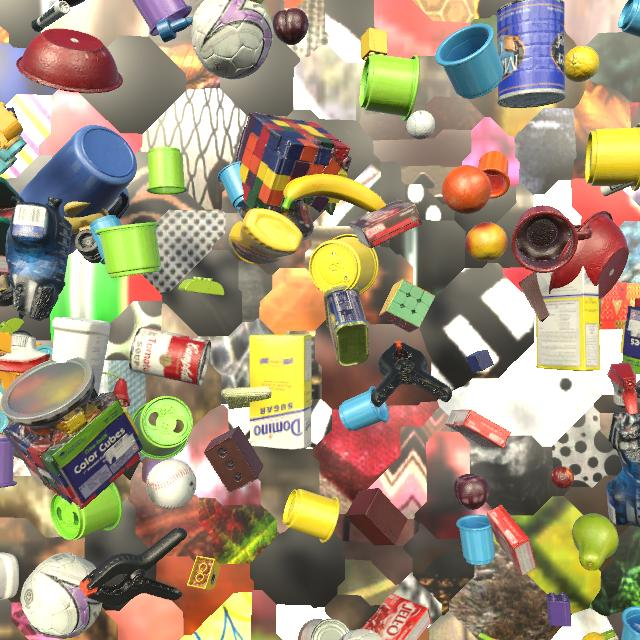ycb_002_master_chef_can: (496, 0, 566, 108)
ycb_004_sugar_box: (249, 334, 312, 450), (536, 266, 600, 371)
ycb_005_tomato_soup_can: (129, 326, 211, 386), (298, 619, 350, 640)
ycb_006_mustard_bottle: (229, 208, 303, 264)
ycb_008_pudding_box: (349, 200, 422, 249)
ycb_009_gelatin_box: (487, 505, 536, 576), (361, 593, 432, 640), (445, 409, 511, 448), (0, 256, 9, 275)
ycb_010_potted_meat_can: (324, 285, 369, 367)
ycb_011_banana: (281, 173, 386, 213), (582, 629, 615, 640), (478, 633, 498, 640)
ycb_014_lemon: (565, 46, 600, 82)
ycb_015_peach: (465, 222, 508, 261)
ycb_016_pear: (572, 513, 619, 571)
ycb_017_orange: (442, 165, 492, 215)
ycb_018_plum: (273, 8, 309, 45), (454, 474, 490, 510)
